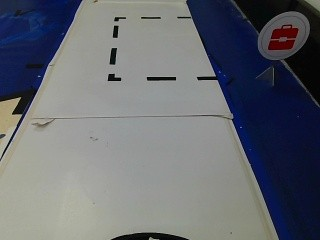company: (257, 10, 310, 62)
